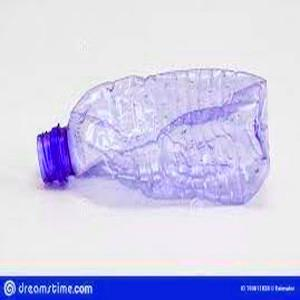Plastic: (35, 66, 273, 207)
